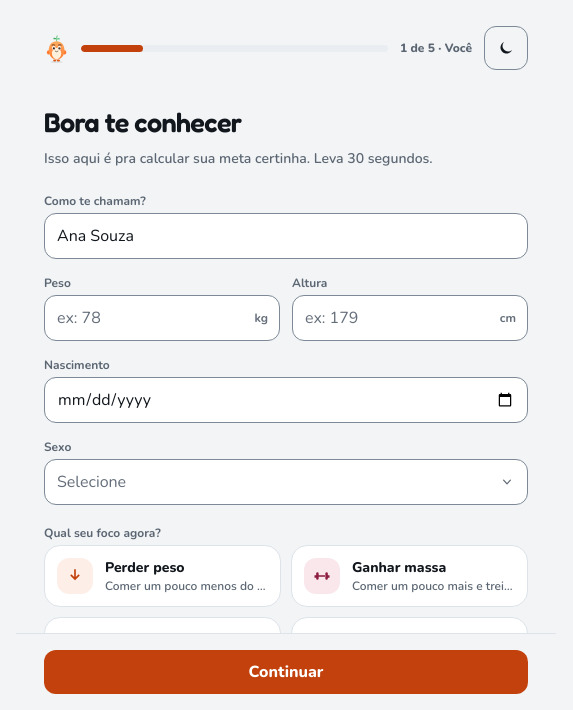
it: OnboardingPage step 1 › asks where the person wants to get to, once the goal is about weight
Replace the text in the field labelled "Como te chamam?" with "Novato": (286, 236) [44, 212, 528, 258]
In the number field labelled "Peso": (162, 318) [44, 294, 280, 340], type "78"
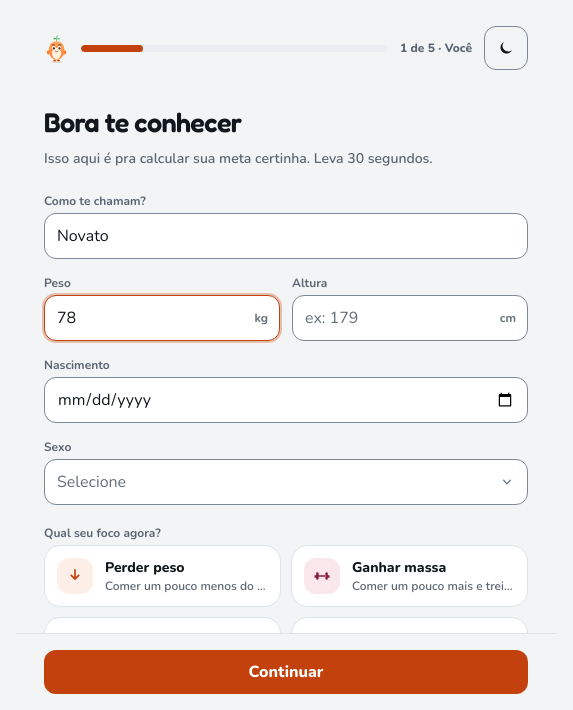
In the number field labelled "Altura": (410, 318) [292, 294, 528, 340], type "179"
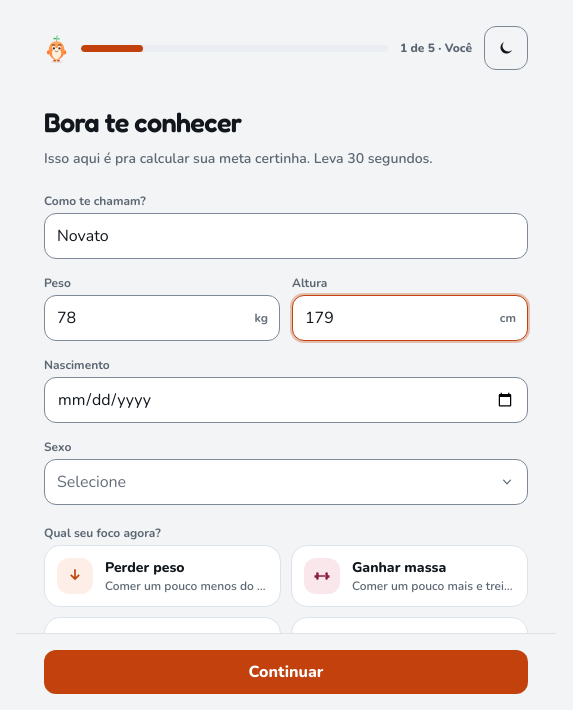
In the date field labelled "Nascimento": (286, 400) [44, 376, 528, 422], type "1995-05-15"
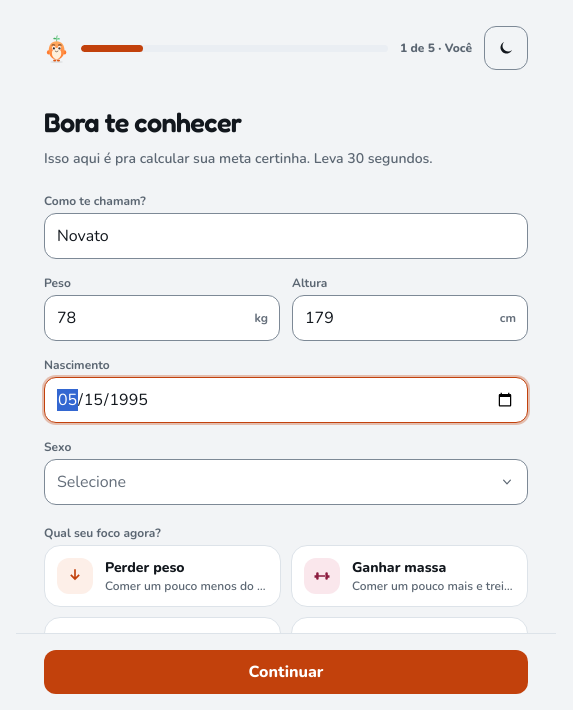
Click the dropdown named "Sexo": (92, 482) [44, 458, 528, 504]
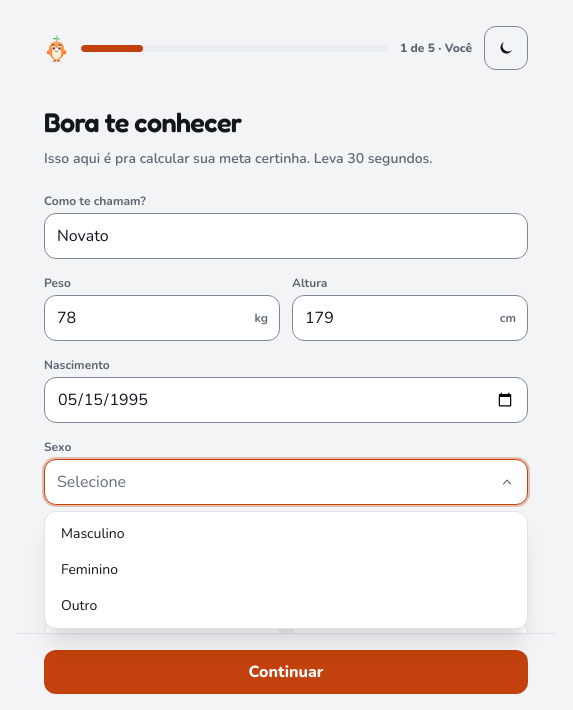
Click the button "Masculino": (93, 533) [49, 516, 523, 552]
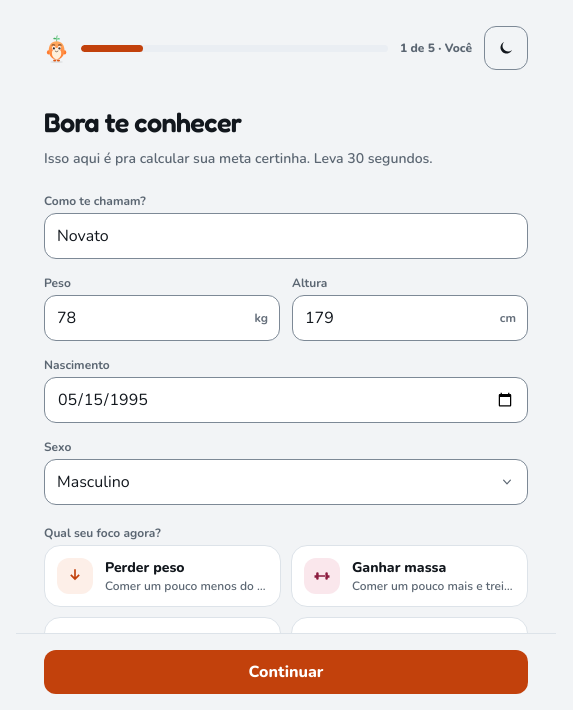
Click the button "Perder peso Comer um pouco menos do que gasta": (162, 576) [44, 544, 281, 606]
(page scrolled)
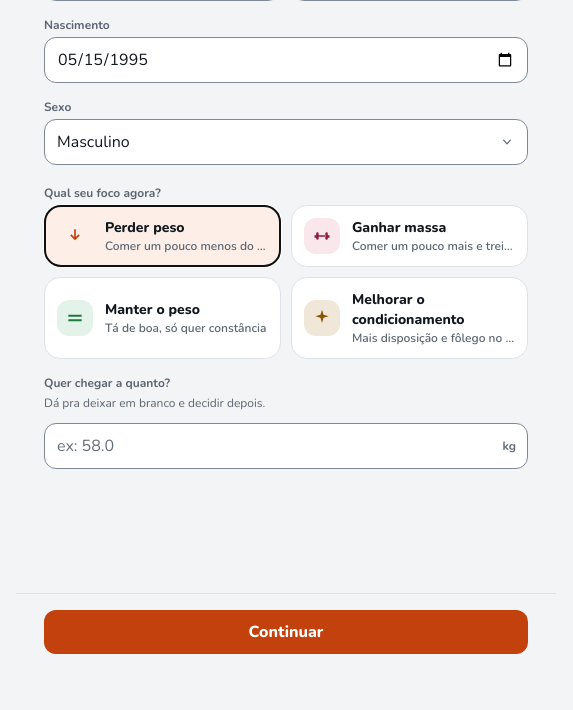
Expected: the number field labelled "Quer chegar a quanto?" is shown, [44, 422, 528, 468]
